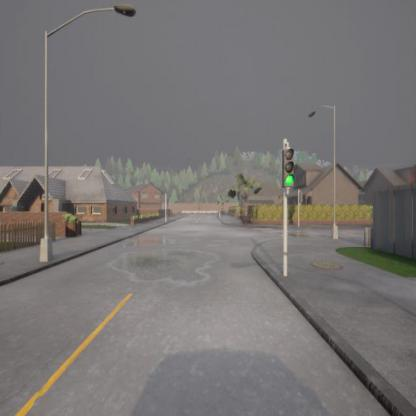traffic_light_green: (283, 148, 294, 188)
